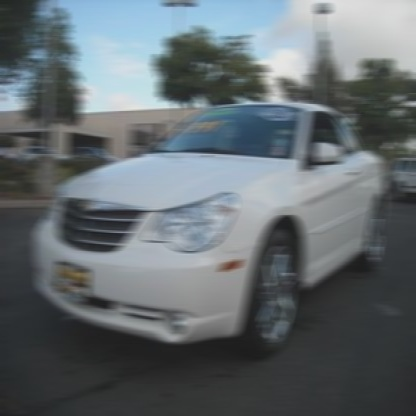Vehicle: (34, 103, 390, 359)
